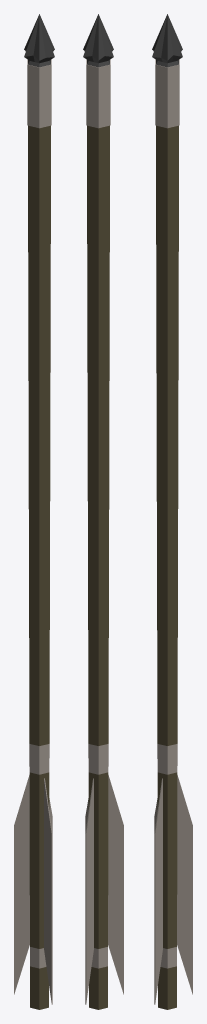
File: W_Arrow.fbx
3 renders of one model, left to right at view 1: azimuth 30°, elevation 25°; view 2: azimuth 210°, elevation 25°; view 3: azimuth 330°, elevation 25°, orthographic.
Visible parts, largest first — view 1: Arrow; view 2: Arrow; view 3: Arrow.
Part boxes in pixels (x1,y1,x2,y2): Arrow: (14, 14, 54, 1009); Arrow: (83, 14, 123, 1009); Arrow: (152, 14, 192, 1009).
Bounding box in the file's own units: 0.0465 × 1.14 × 0.0427.
